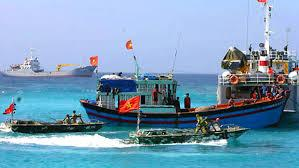Ship: (79, 76, 290, 131), (211, 4, 299, 116), (4, 105, 103, 140), (124, 122, 252, 149), (2, 49, 97, 80)
